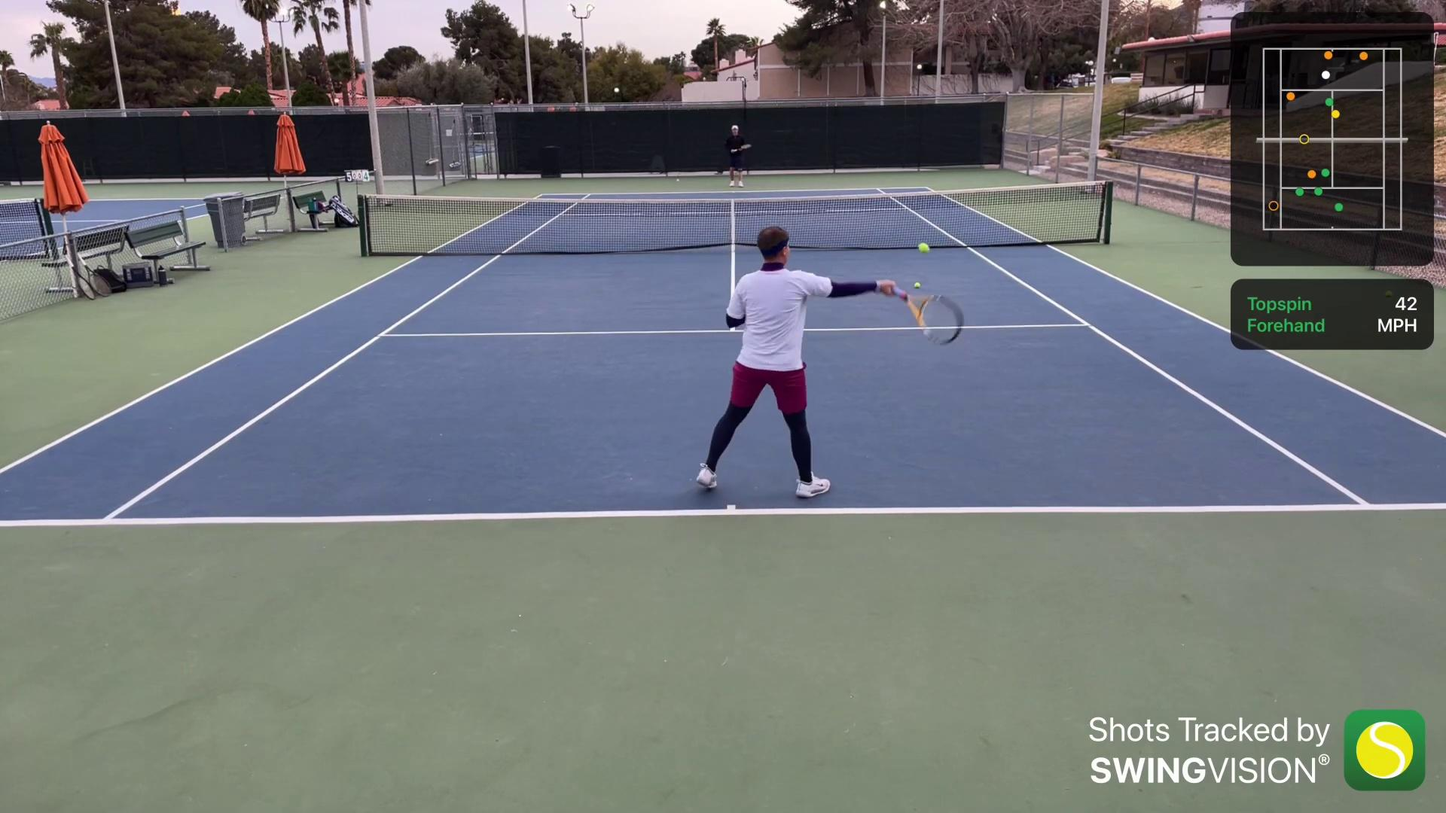ball: (918, 241, 930, 256), (910, 281, 921, 291), (463, 277, 468, 281)
